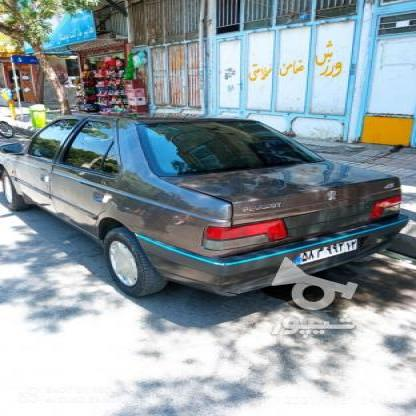licence: (286, 235, 362, 268)
